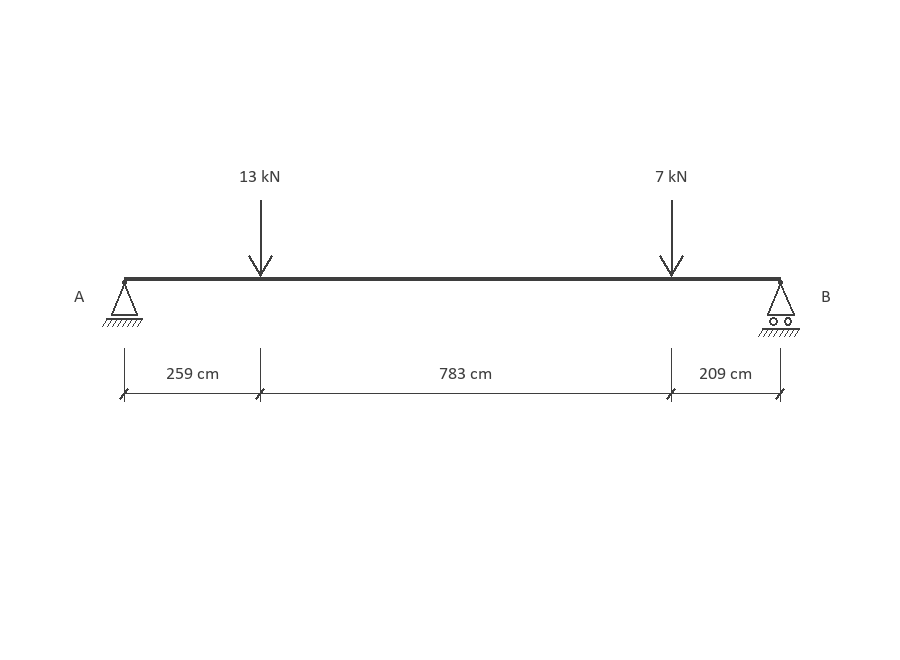pin_support: (102, 280, 143, 327)
point_load: (248, 200, 273, 277), (659, 200, 684, 277)
roller_support: (758, 280, 800, 337)
